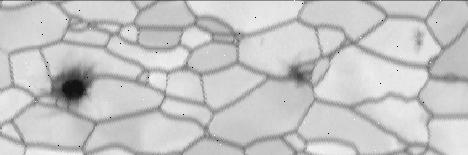good_void: (42, 47, 101, 112), (279, 51, 315, 86), (413, 26, 429, 54), (258, 36, 267, 46)
